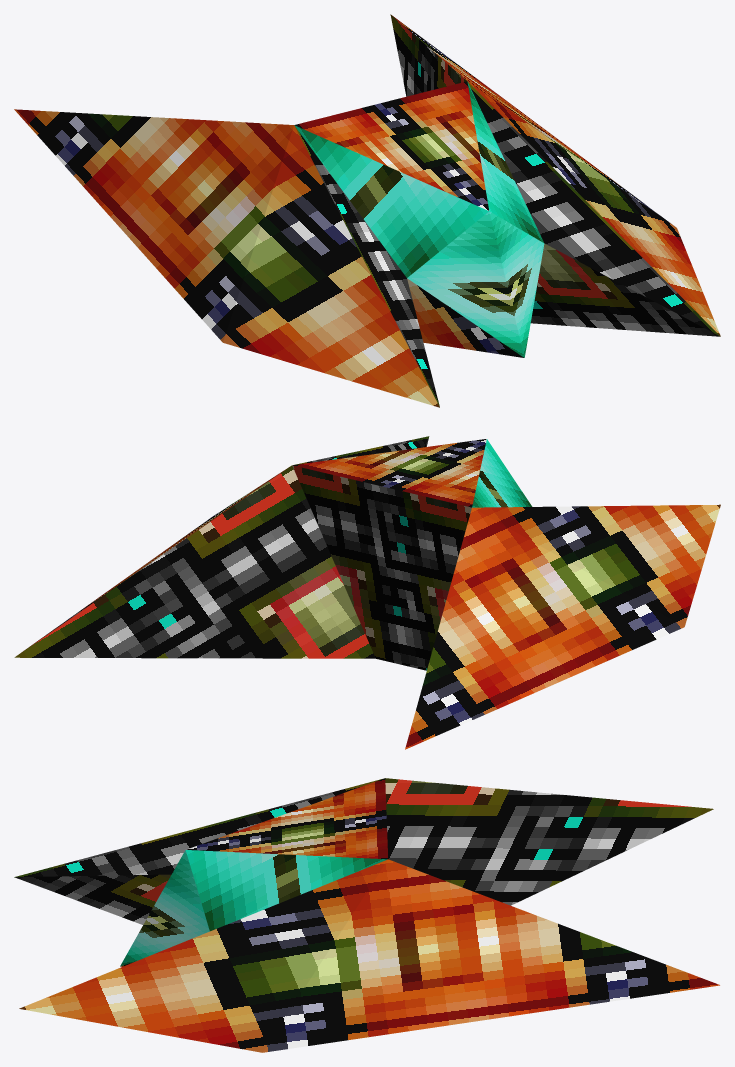
Rendered from Invader I.dae.
The picture shows the model from 3 angles, top to bottom: view 1: azimuth 30°, elevation 25°; view 2: azimuth 150°, elevation 25°; view 3: azimuth 270°, elevation 25°; orthographic projection. The views are drawn at different scales.
Visible parts, largest first — view 1: invader, chip, green; view 2: chip, invader, green; view 3: invader, chip, green.
Boxes of the visible parts, bbox=[...] form: invader: bbox=[14, 15, 720, 407]; chip: bbox=[295, 14, 720, 406]; green: bbox=[294, 82, 544, 357]; chip: bbox=[14, 436, 471, 670]; invader: bbox=[21, 439, 720, 749]; green: bbox=[472, 439, 532, 507]; invader: bbox=[19, 778, 719, 1052]; chip: bbox=[14, 778, 713, 924]; green: bbox=[120, 850, 387, 966].
Size of the model in its own units: 152 by 63.61 by 213.
3 materials, 3 textured.
